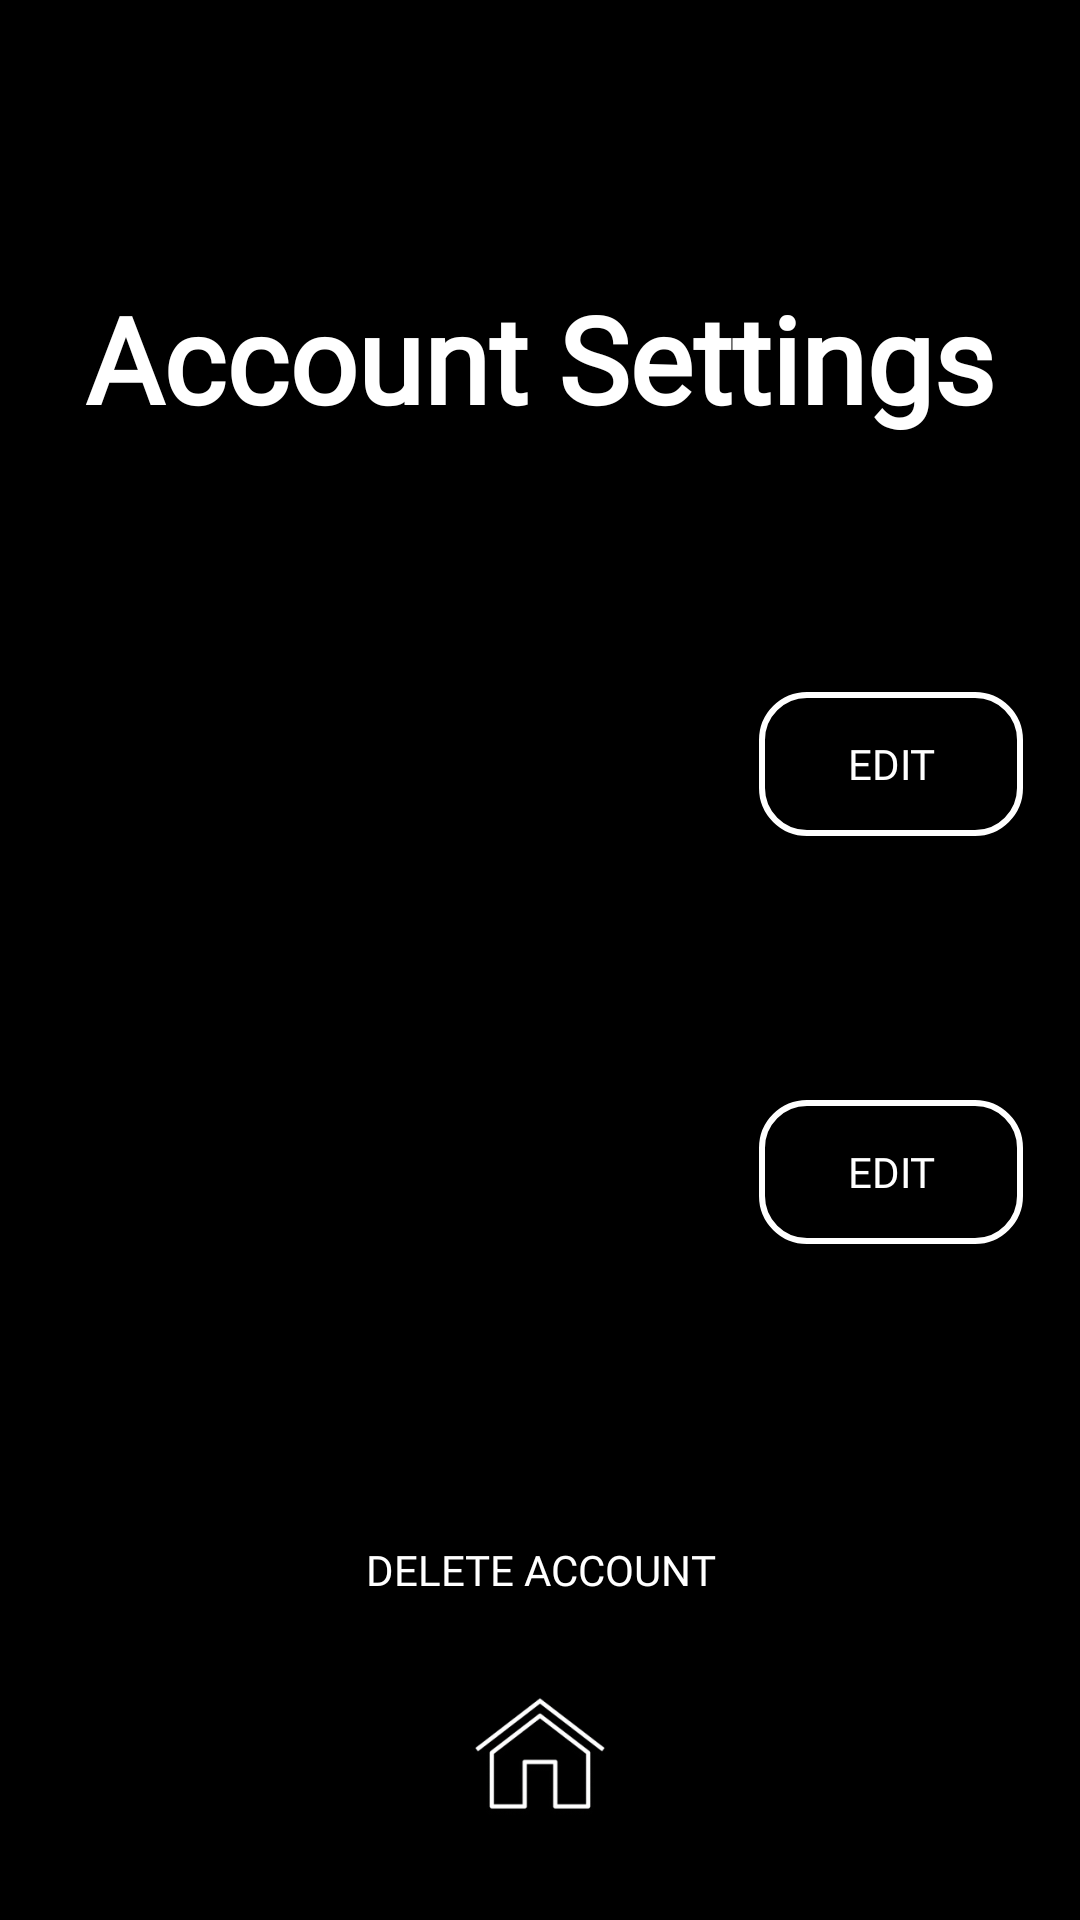

Named icons in this screenshot (1080*1920) and their bounding boxes, (x1, y1, x2, y2):
Home: (475, 1698, 605, 1809)
